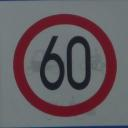speed_limit_60: (12, 13, 117, 117)
